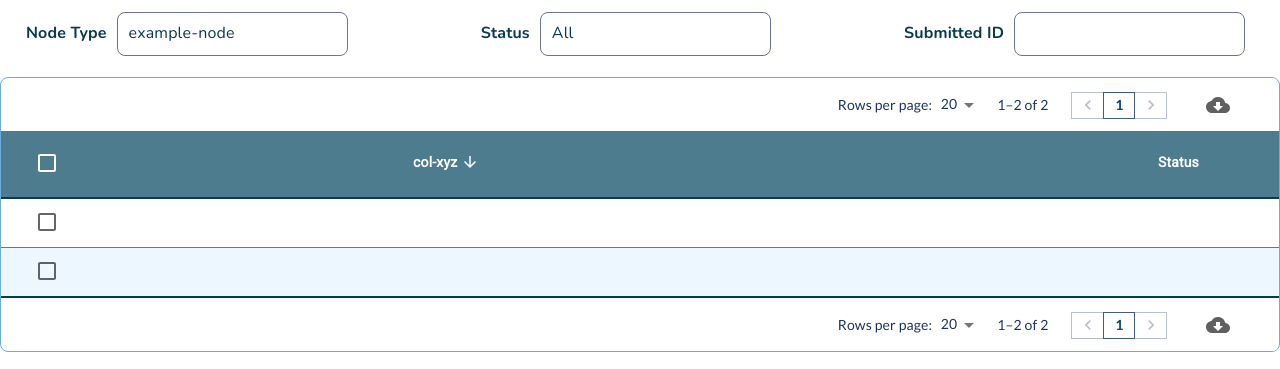
Scenario: SubmittedData > Table › should deselect all rows when the 'Select All' checkbox is clicked in the 'checked' state
The image size is (1280, 369).
Note: Click "Select All" to enter select all mode
Click the 1st checkbox.
click(42, 164)  # box x1=25 y1=153 x2=59 y2=175
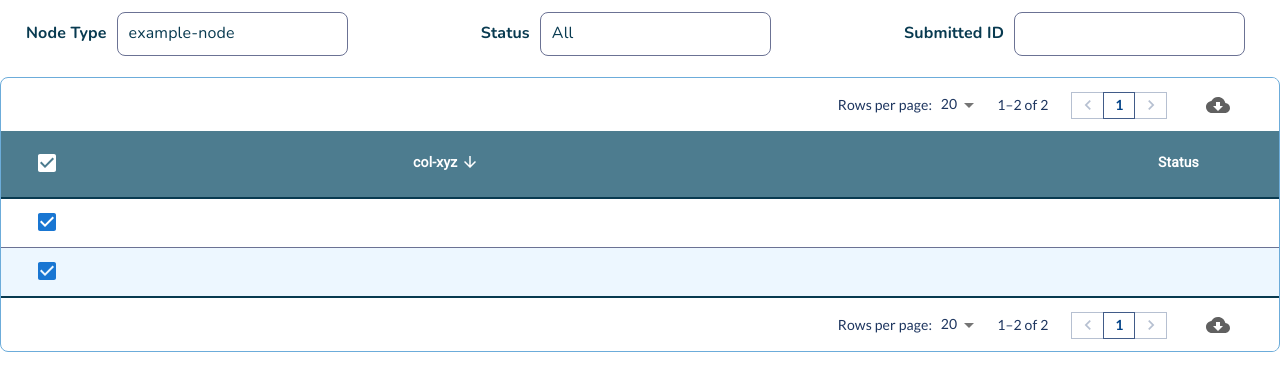
Result: the 1st checkbox is checked
Result: the 2nd checkbox is checked at x1=25 y1=212 x2=59 y2=234
Result: the 3rd checkbox is checked at x1=25 y1=261 x2=59 y2=283
Note: Click "Select All" again to deselect all
Click the 1st checkbox.
click(42, 164)  # box x1=25 y1=153 x2=59 y2=175
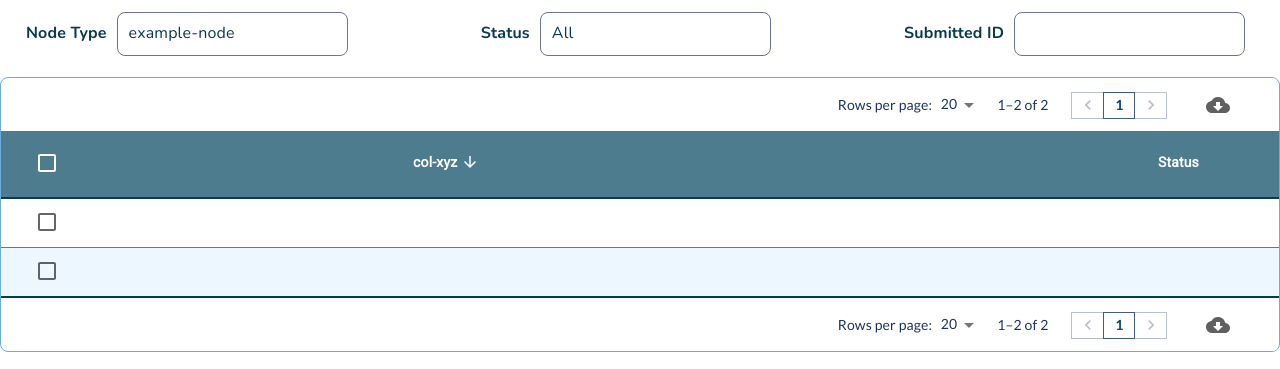
Result: the 1st checkbox is not checked at x1=25 y1=153 x2=59 y2=175
Result: the 2nd checkbox is not checked at x1=25 y1=212 x2=59 y2=234
Result: the 3rd checkbox is not checked at x1=25 y1=261 x2=59 y2=283
